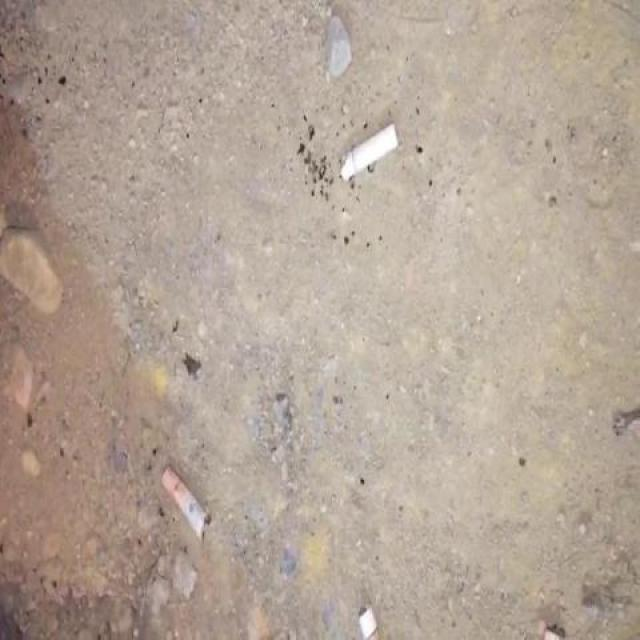non-organic waste: (157, 460, 219, 545), (334, 121, 402, 188)
